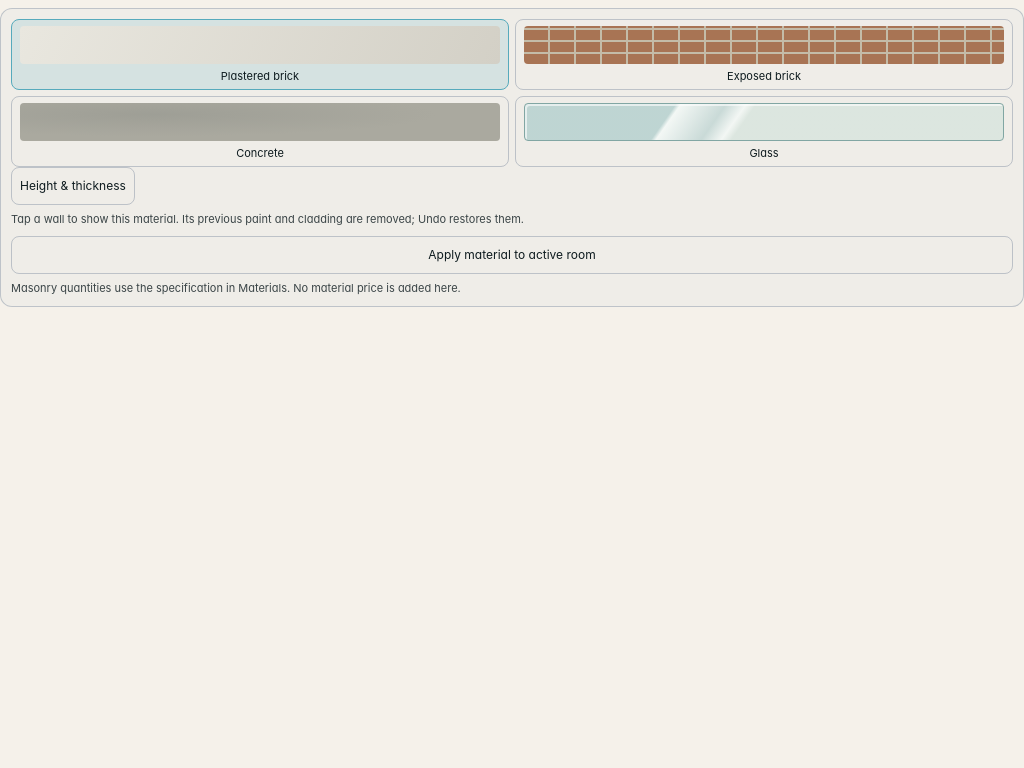
Scenario: wall surface controls keep application and quantities connected › arms the shared brush and dismisses masonry choice, but leaves glass specification editable
Click the button "Exposed brick".
click(764, 55)  # box left=515, top=19, right=1013, bottom=90
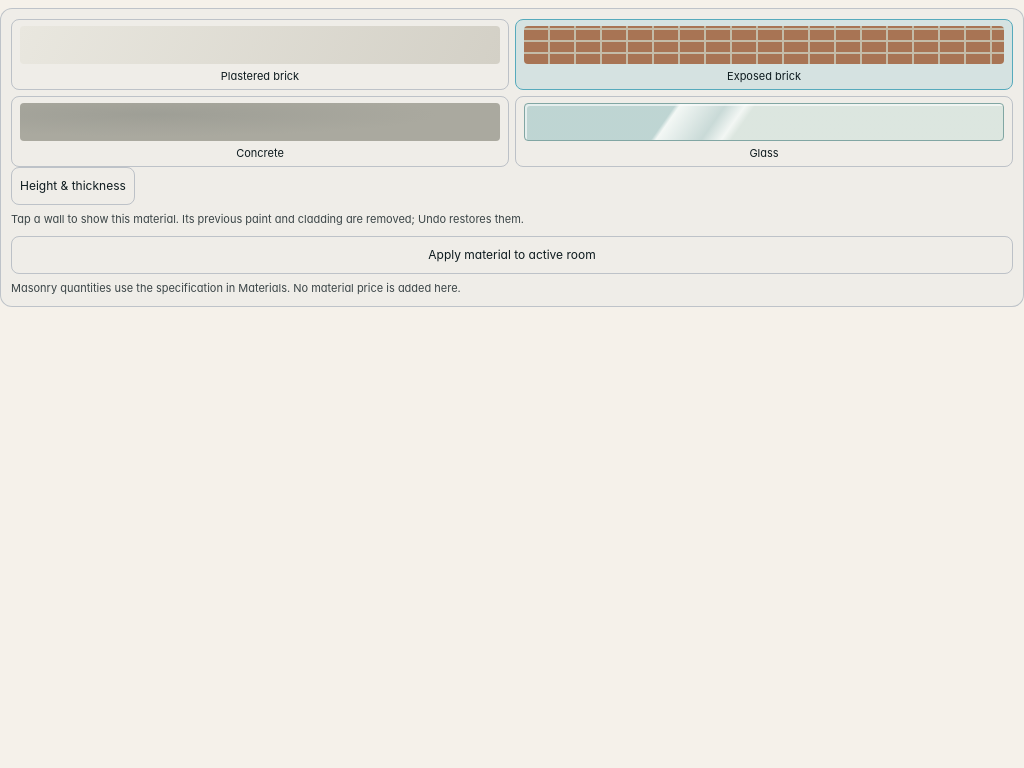
Click the button "Glass".
click(764, 132)  # box left=515, top=96, right=1013, bottom=167
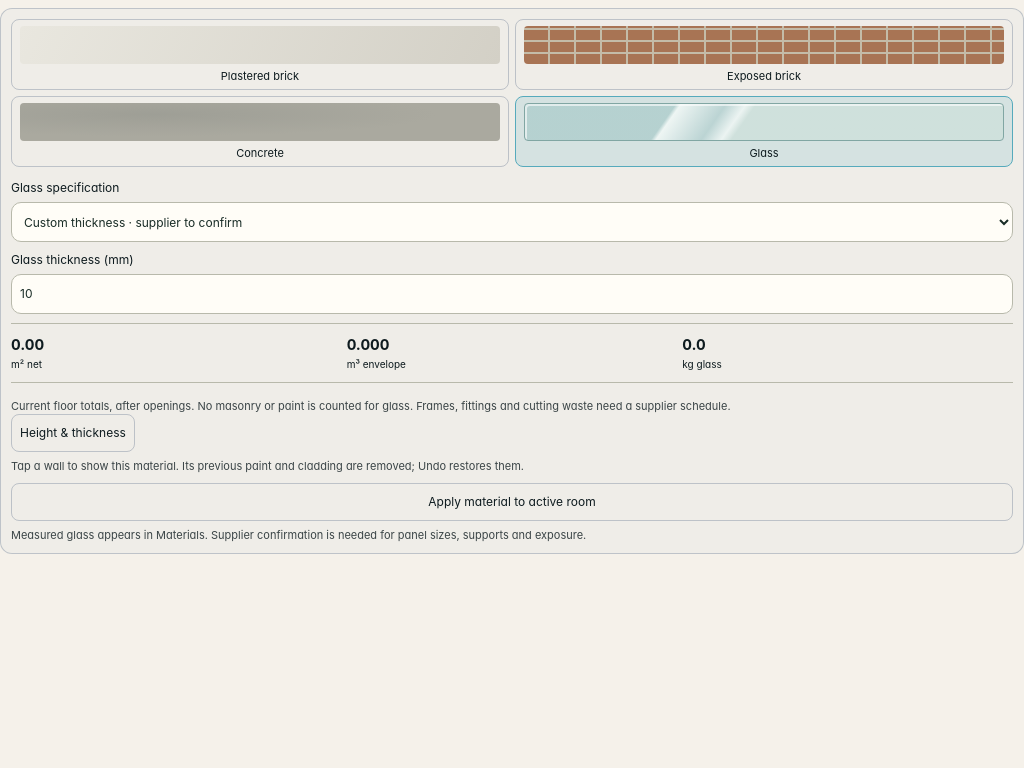
Expected: the text "Glass thickness (mm)" is shown, left=11, top=251, right=1013, bottom=314
